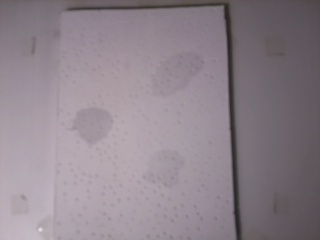Water_detected: (153, 153, 189, 190), (154, 57, 190, 87), (79, 115, 116, 143)
